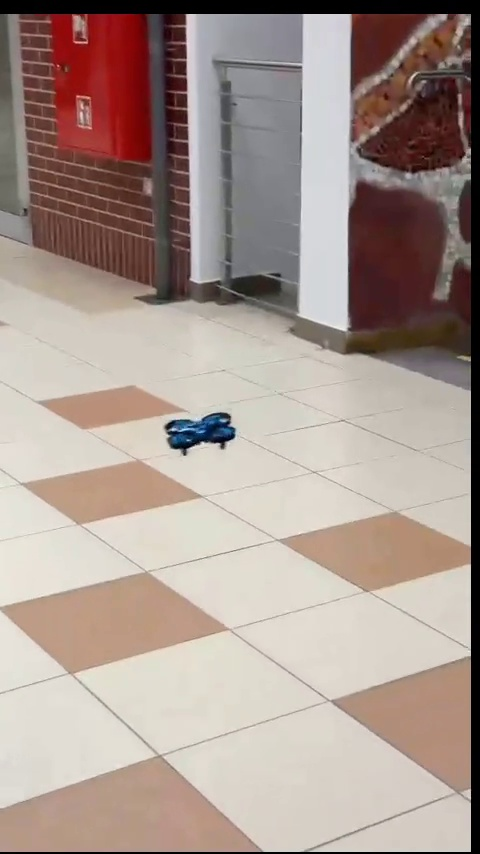drone: (168, 409, 239, 452)
